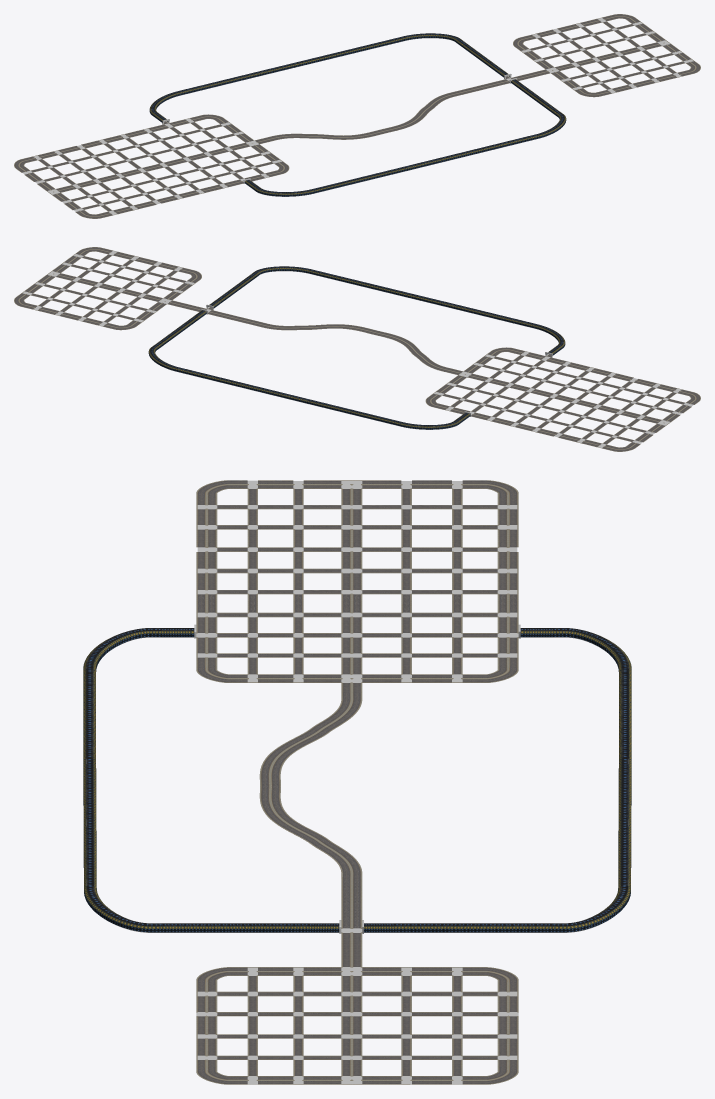
File: Real Car.fbx
3 renders of one model, top to bottom at view 1: azimuth 30°, elevation 25°; view 2: azimuth 150°, elevation 25°; view 3: azimuth 270°, elevation 25°, orthographic. The views are drawn at different scales.
Visible parts, largest first — view 1: ROad, Road, Footpath3, Footpath1, Tunnel_main7, Tunnel_main9, Road1, Footpath2; view 2: ROad, Road, Footpath3, Footpath1, Tunnel_main7, Tunnel_main9, Road1, Footpath2; view 3: ROad, Road, Footpath3, Footpath1, Tunnel_main7, Tunnel_main9, Road1, Footpath2.
Part boxes in pixels (x1,y1,x2,y2): ROad: [14, 114, 288, 218]; Road: [511, 14, 700, 96]; Footpath3: [14, 114, 289, 218]; Footpath1: [511, 14, 700, 97]; Tunnel_main7: [149, 33, 511, 124]; Tunnel_main9: [243, 78, 566, 196]; Road1: [164, 76, 510, 143]; Footpath2: [164, 76, 510, 144]; ROad: [426, 347, 700, 451]; Road: [14, 247, 206, 329]; Footpath3: [425, 347, 700, 451]; Footpath1: [14, 247, 206, 330]; Tunnel_main7: [148, 309, 471, 429]; Tunnel_main9: [206, 266, 565, 357]; Road1: [206, 307, 550, 374]; Footpath2: [207, 307, 550, 375]; ROad: [196, 480, 518, 682]; Road: [196, 933, 518, 1084]; Footpath3: [196, 480, 518, 682]; Footpath1: [196, 933, 518, 1084]; Tunnel_main7: [362, 624, 631, 933]; Tunnel_main9: [83, 624, 341, 933]; Road1: [261, 683, 362, 932]; Footpath2: [196, 633, 518, 932].
Size of the model in its own units: 516493 by 3010 by 197998.
